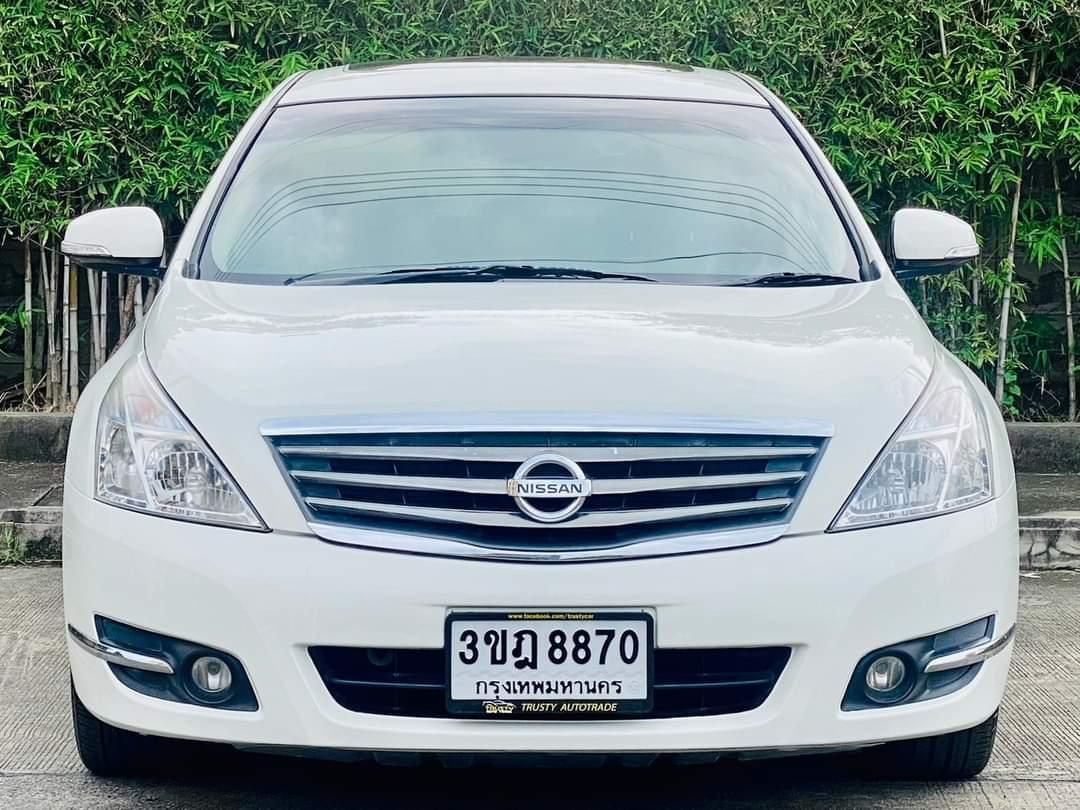license-plate: (440, 603, 659, 718)
